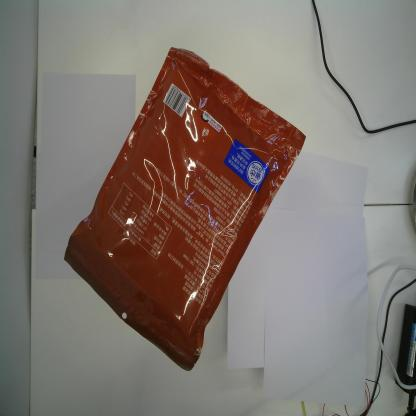Dried Food: (63, 45, 307, 372)
